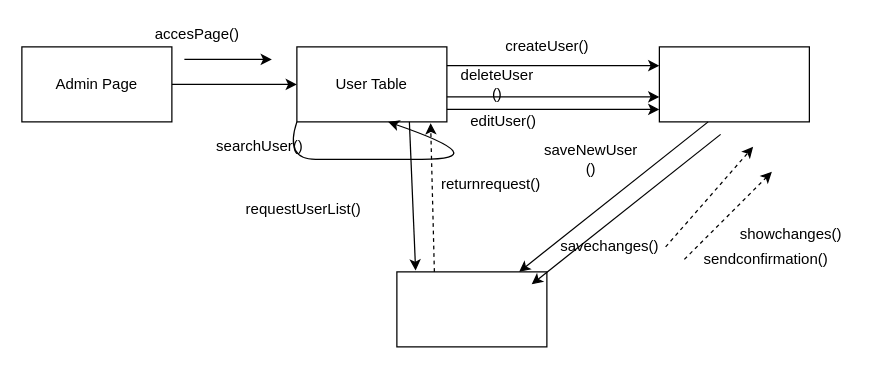
This 875x369 diagram has some shape labels left out. The centre of each missing label's shape, as x and y in pixels:
"Server" belongs at pixel 471 309.
"User" belongs at pixel 733 84.
